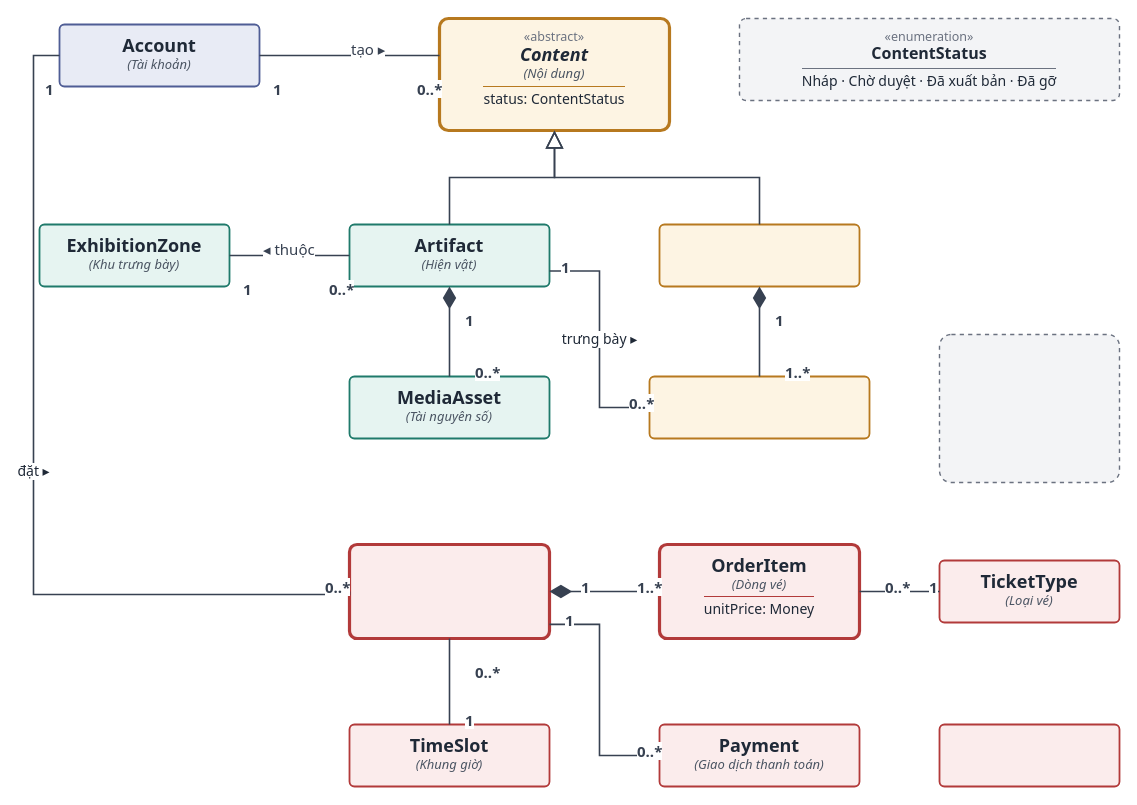
Some shapes in this 1137 by 805 pixel diagram are drawn without their labels. The shapes that lost their labels are listed below. From the top down, each one's centre as x and y in pixels, then its label:
At point 759,255: "Exhibition (Triển lãm)".
At point 759,407: "ExhibitionItem (Hiện vật trong triển lãm)".
At point 1029,408: "«enumeration» OrderStatus Chờ thanh toán Đã thanh toán Đã sử dụng Đã hủy".
At point 449,591: "TicketOrder (Đơn vé) status: OrderStatus".
At point 1029,755: "ClosedDay (Ngày đóng cửa)".
